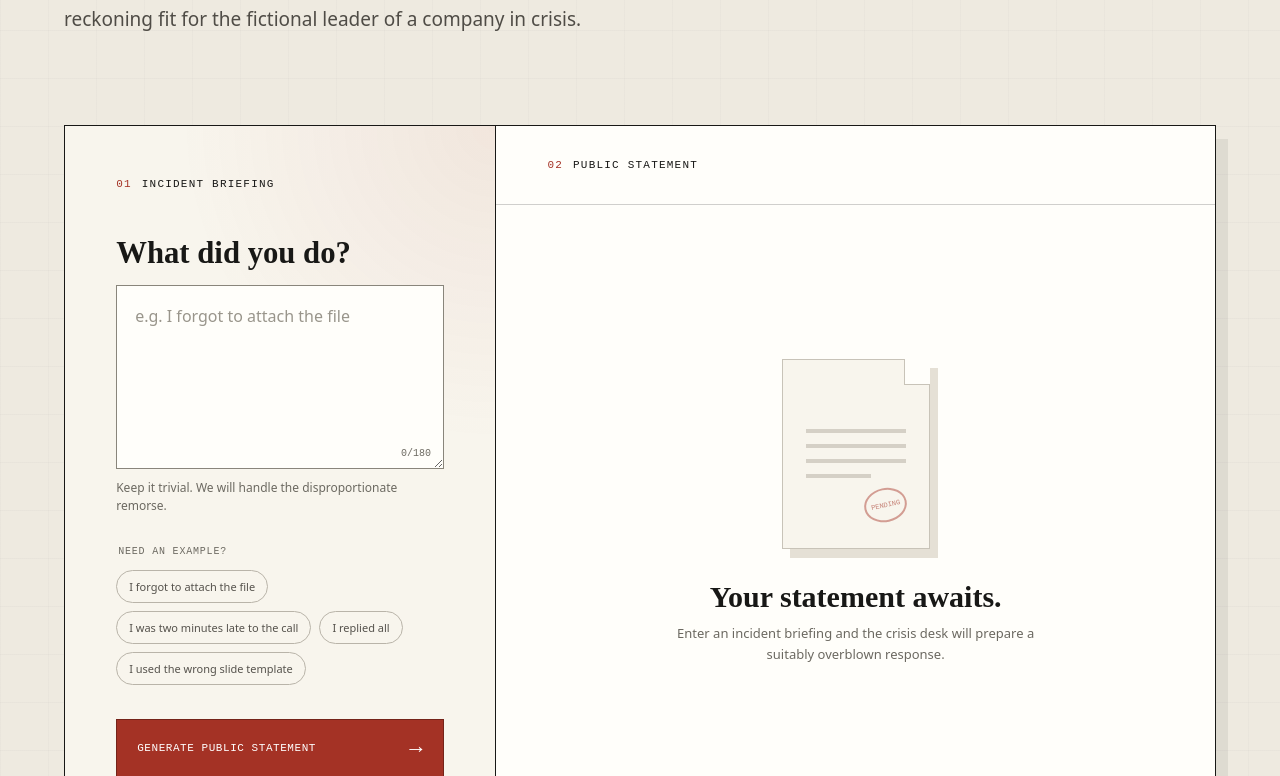
App › copies the generated statement
(page scrolled)
In the text box labelled "What did you do?": (280, 376) left=116, top=284, right=444, bottom=468, type "I muted the wrong person"
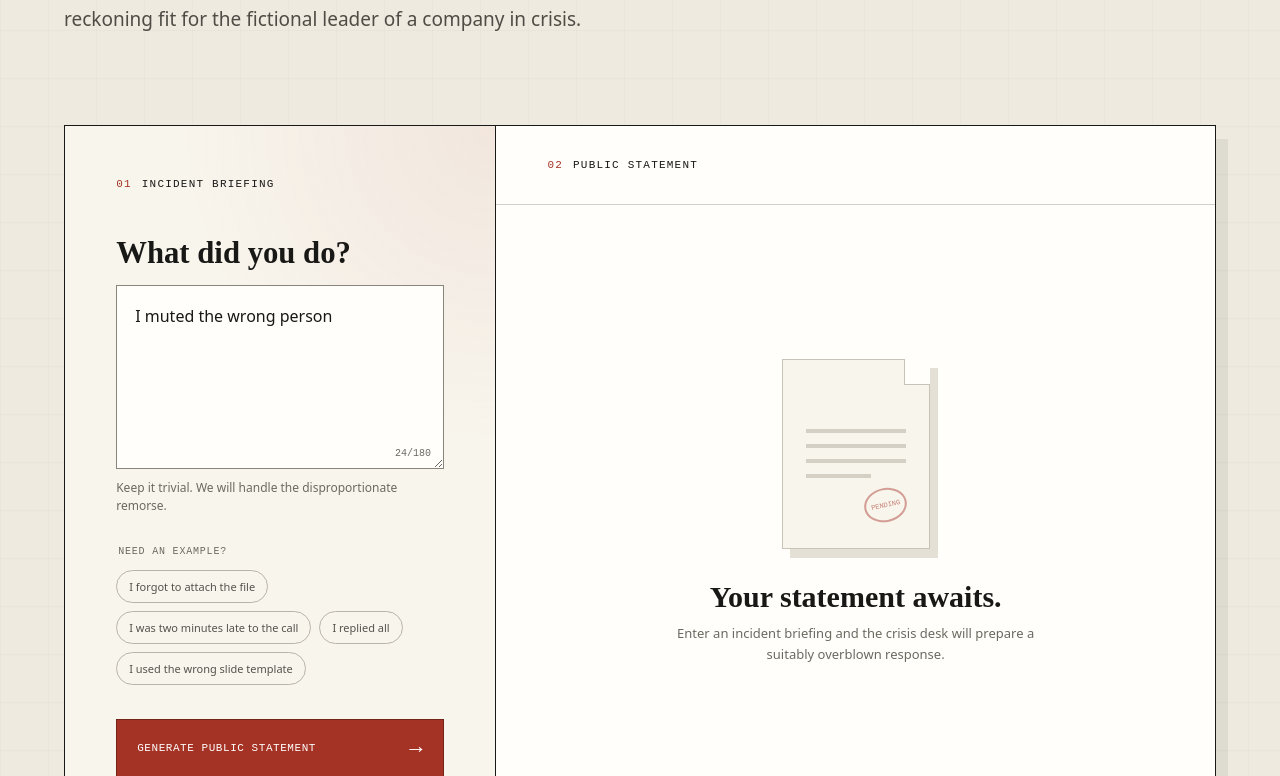
Click the button "Generate public statement →": (280, 748) left=116, top=718, right=444, bottom=775
(page scrolled)
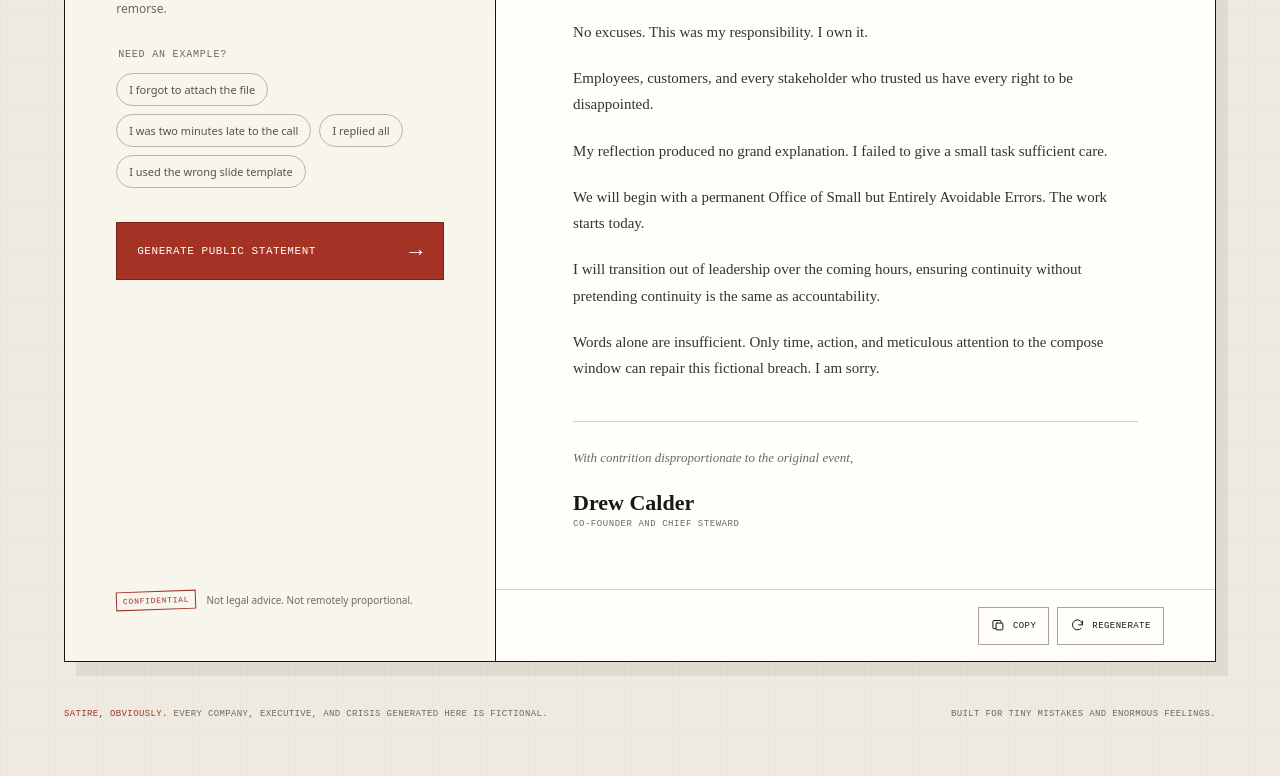
Click the button "Copy": (1014, 626) left=978, top=607, right=1049, bottom=645
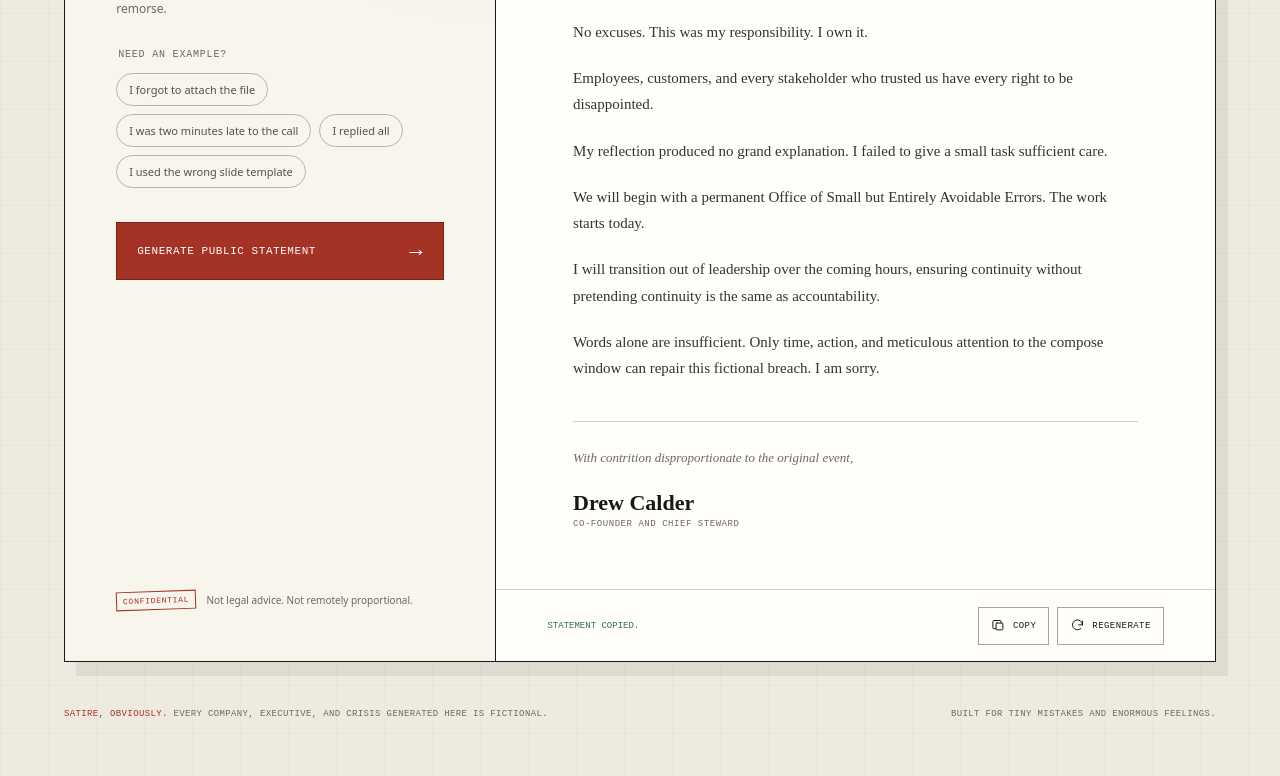
Check: the message shows "Statement copied", box left=547, top=621, right=639, bottom=631
